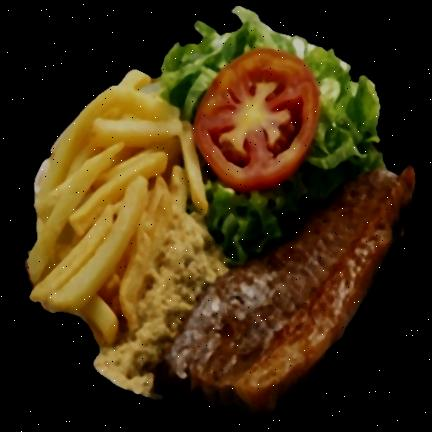meat: (154, 165, 417, 416)
potato: (28, 66, 206, 352)
salad: (153, 8, 376, 268)
tomato: (192, 49, 317, 188)
